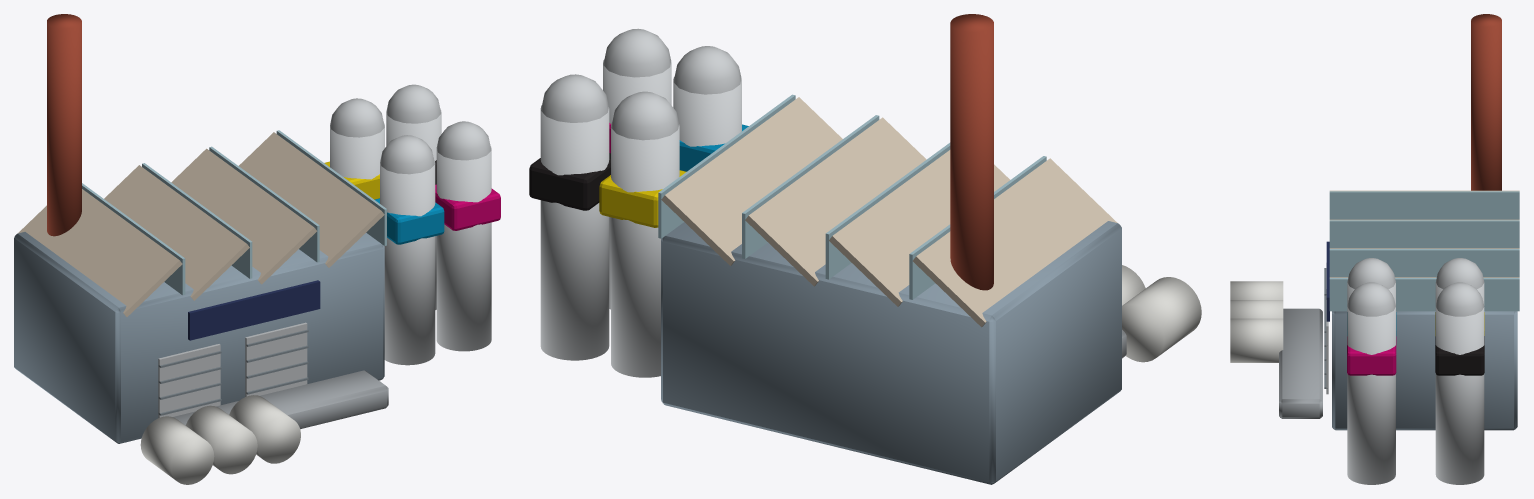
3 views of the same model, side by side, from view 1: azimuth 30°, elevation 25°; view 2: azimuth 150°, elevation 25°; view 3: azimuth 270°, elevation 25° (orthographic). The views are drawn at different scales.
Parts seen in each view (by area): view 1: lm_07; view 2: lm_07; view 3: lm_07.
Part boxes in pixels (x1=…): lm_07: x1=14, y1=14, x2=500, y2=484; lm_07: x1=529, y1=14, x2=1201, y2=484; lm_07: x1=1230, y1=14, x2=1519, y2=484.
Size of the model in its own units: 0.916 by 0.775 by 0.655.
